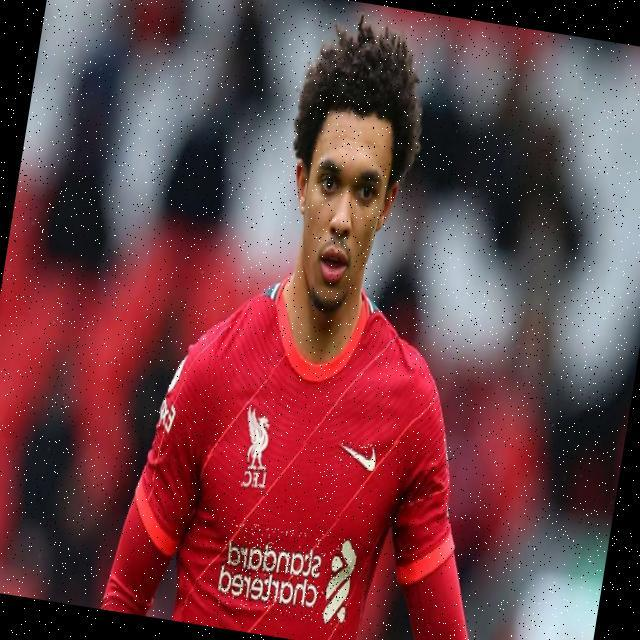Nike: (336, 440, 378, 472)
Standard Chartered: (215, 519, 359, 627)
